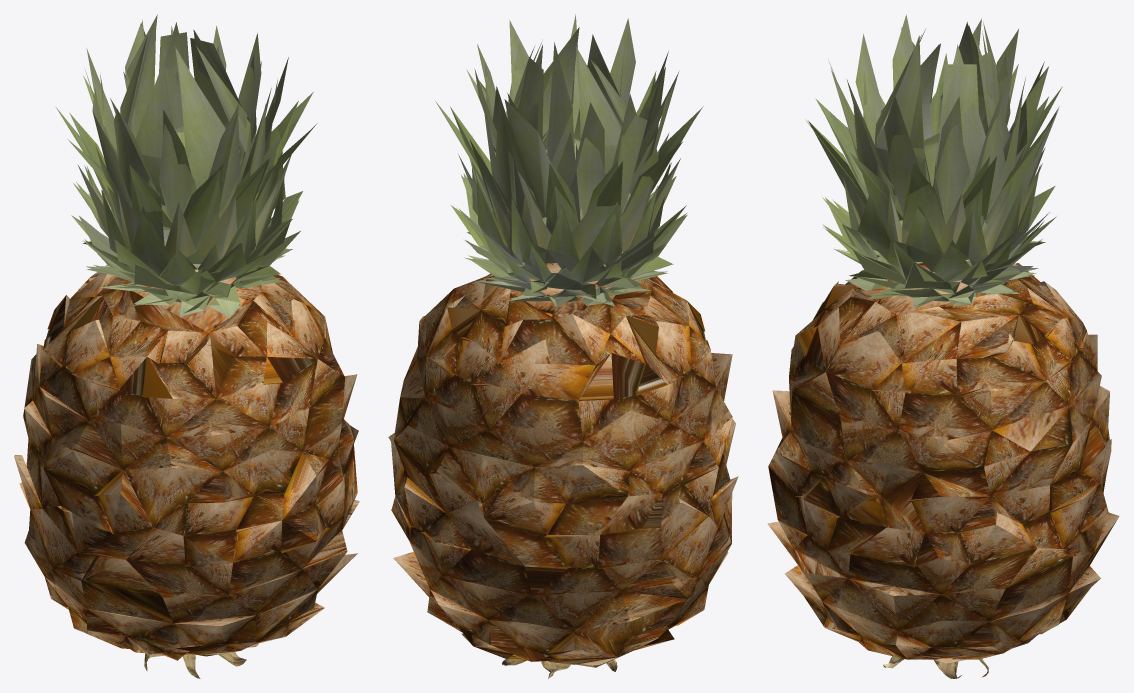
Rendered from pineapple_lod.obj.
3 views of the same model, side by side, from view 1: azimuth 30°, elevation 25°; view 2: azimuth 150°, elevation 25°; view 3: azimuth 270°, elevation 25° (orthographic).
Parts seen in each view (by area): view 1: middle, top, bottom; view 2: middle, top; view 3: middle, top.
Part boxes in pixels (box(x1,y1,x2,y2)): middle: box(14, 264, 359, 660); top: box(55, 14, 317, 318); bottom: box(144, 652, 246, 678); middle: box(388, 263, 738, 667); top: box(435, 14, 703, 307); middle: box(767, 263, 1119, 663); top: box(805, 14, 1062, 308).
Bounding box in the file's own units: 0.7706 × 1.56 × 0.7846.
3 materials, 3 textured.
